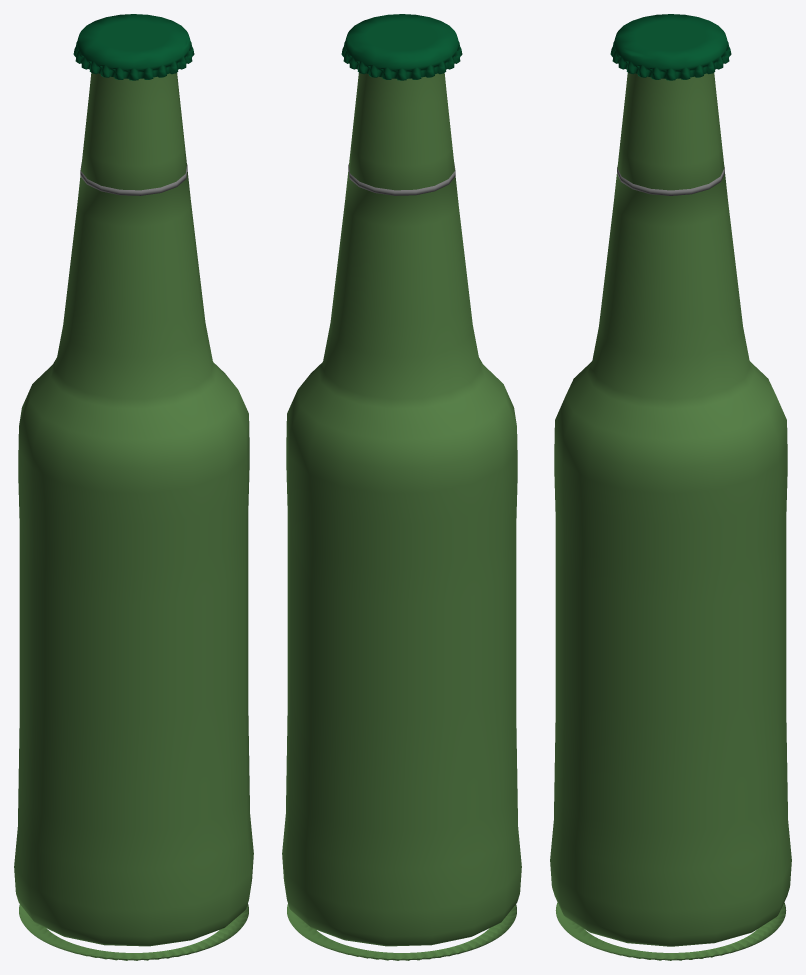
The picture shows the model from 3 angles, left to right: view 1: azimuth 30°, elevation 25°; view 2: azimuth 150°, elevation 25°; view 3: azimuth 270°, elevation 25°; orthographic projection.
Parts seen in each view (by area): view 1: GARRAFA; view 2: GARRAFA; view 3: GARRAFA.
Part boxes in pixels (left/top/right/bottom): GARRAFA: left=14, top=14, right=253, bottom=960; GARRAFA: left=282, top=14, right=521, bottom=960; GARRAFA: left=550, top=14, right=791, bottom=960.
Size of what is drawn, in the model's own units: 11.79 by 47.38 by 11.79.
